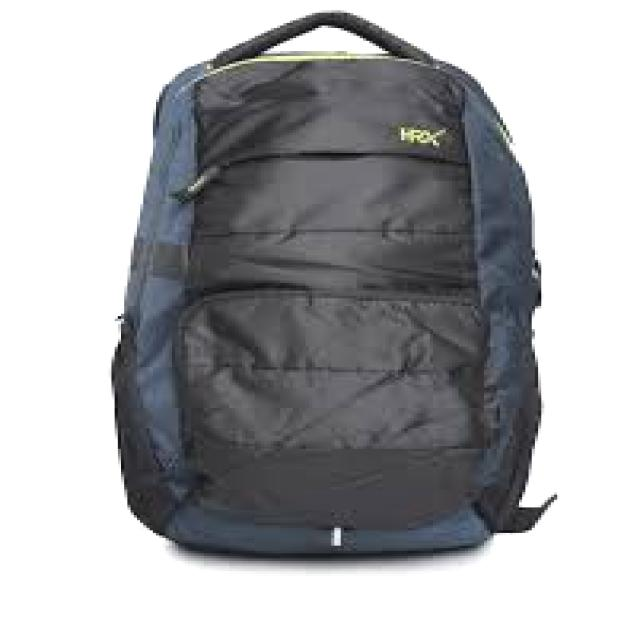backpack: (109, 9, 558, 560)
